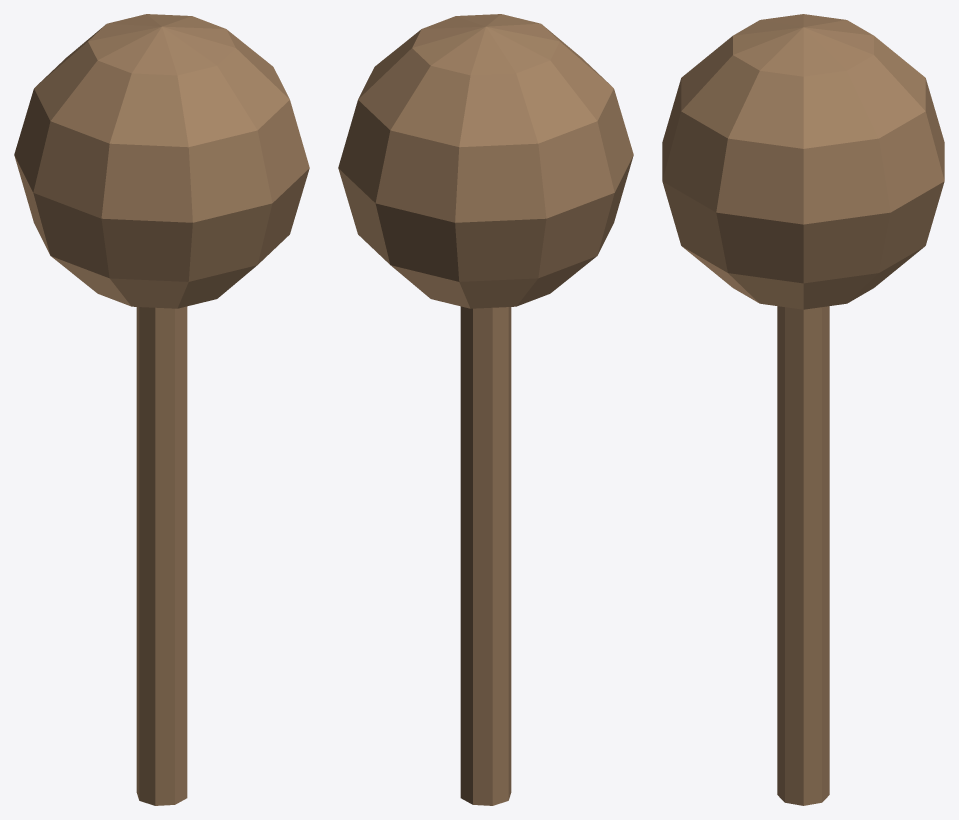
The model's file is blunt.glb.
3 views of the same model, side by side, from view 1: azimuth 30°, elevation 25°; view 2: azimuth 150°, elevation 25°; view 3: azimuth 270°, elevation 25° (orthographic).
Parts seen in each view (by area): view 1: blunt; view 2: blunt; view 3: blunt.
Boxes of the visible parts, bbox=[...] form: blunt: bbox=[14, 14, 309, 805]; blunt: bbox=[338, 14, 633, 805]; blunt: bbox=[662, 14, 944, 805].
Size of the model in its own units: 0.34 by 0.97 by 0.3234.
